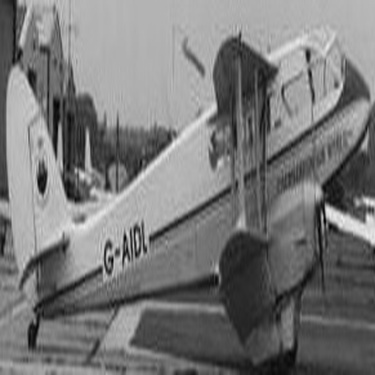airplane: (5, 3, 371, 371)
